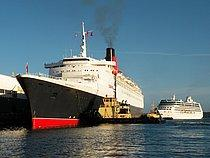Ship: (10, 17, 148, 136), (152, 94, 209, 128)
